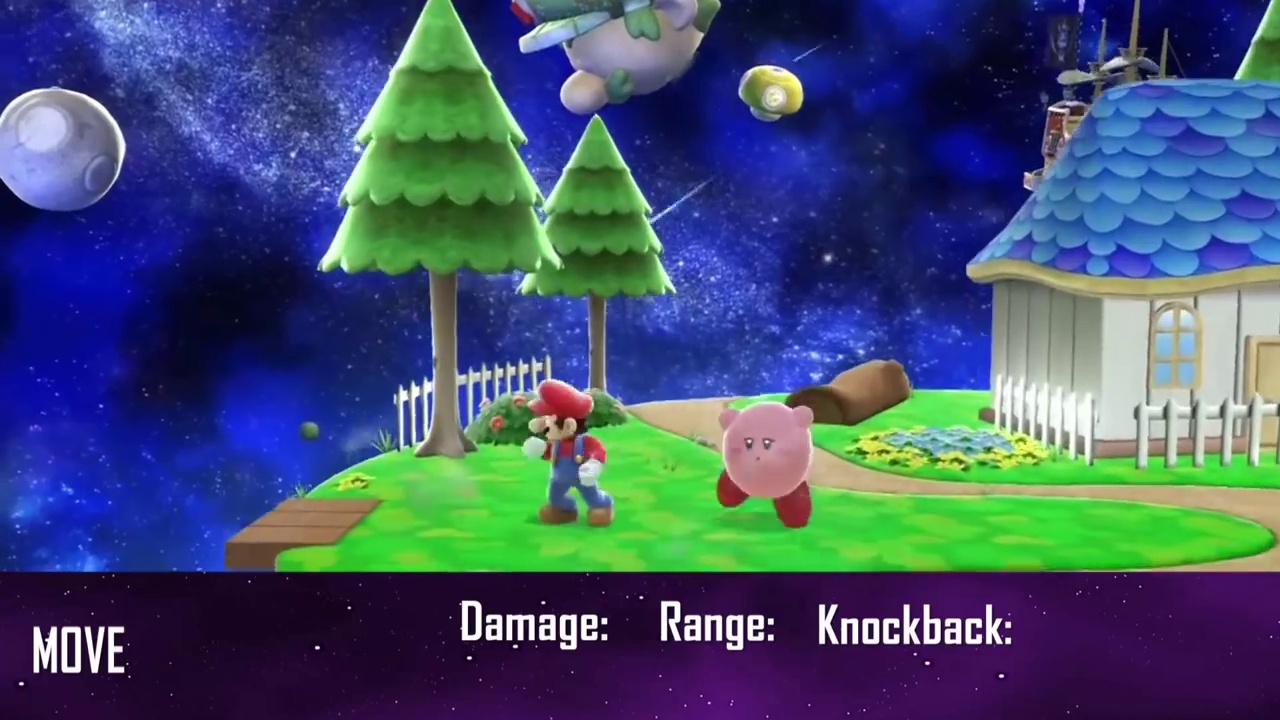Mario: (525, 379, 612, 525)
